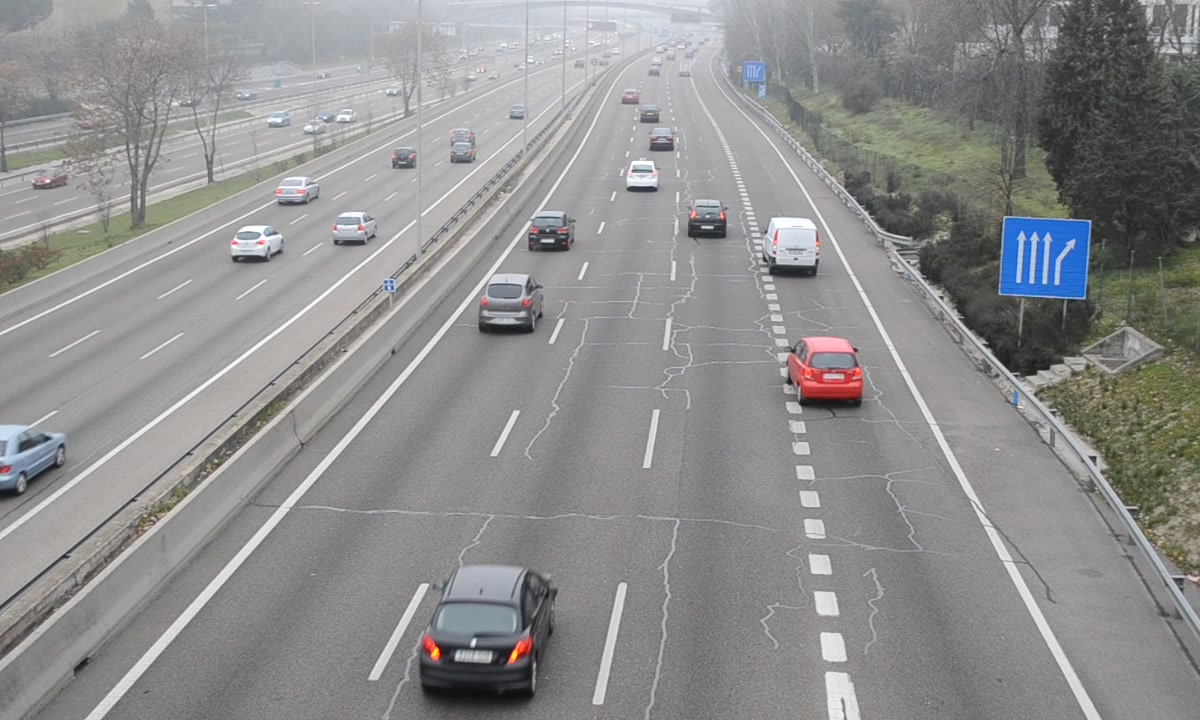car: (420, 567, 557, 687), (788, 335, 864, 404), (478, 274, 543, 329), (529, 211, 575, 251), (688, 199, 726, 237), (624, 157, 661, 192), (648, 126, 676, 151)
van: (765, 217, 822, 272)
